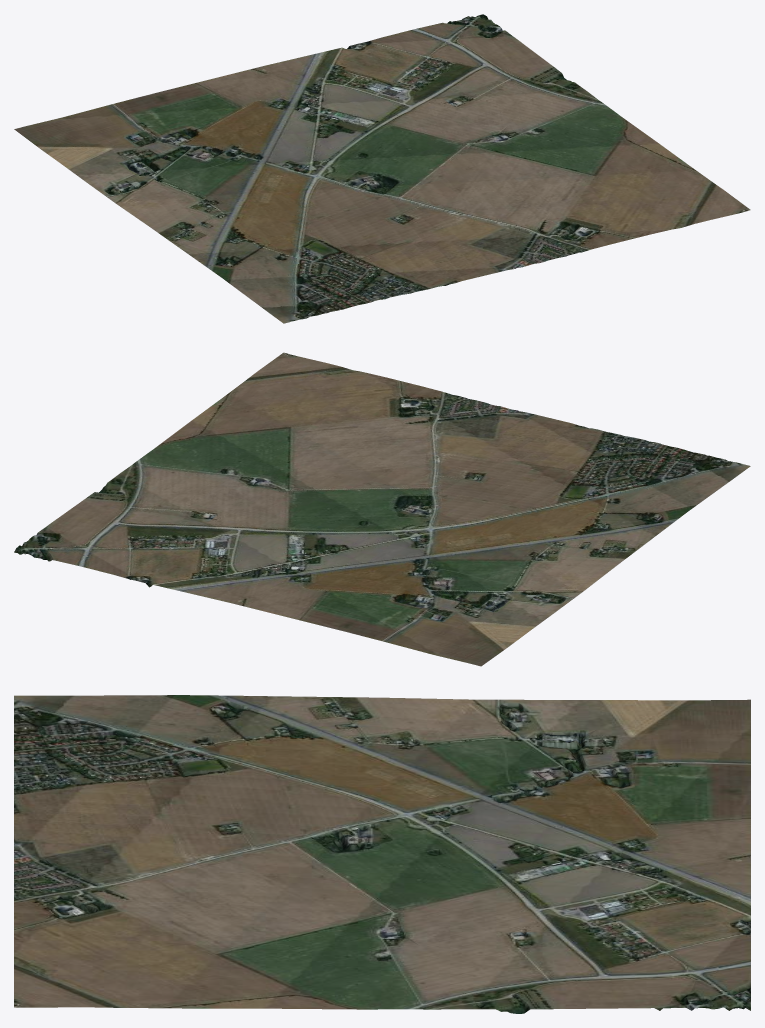
The model's file is map_10_254_430.dae.
The picture shows the model from 3 angles, top to bottom: view 1: azimuth 30°, elevation 25°; view 2: azimuth 150°, elevation 25°; view 3: azimuth 270°, elevation 25°; orthographic projection. The views are drawn at different scales.
Visible parts, largest first — view 1: Ter0; view 2: Ter0; view 3: Ter0.
Boxes of the visible parts, x1,y1,x2,y2 form: Ter0: [14, 14, 750, 323]; Ter0: [14, 352, 750, 666]; Ter0: [14, 695, 750, 1013].
Bounding box in the file's own units: 2044 × 2044 × 35.05.
3 materials, 3 textured.
